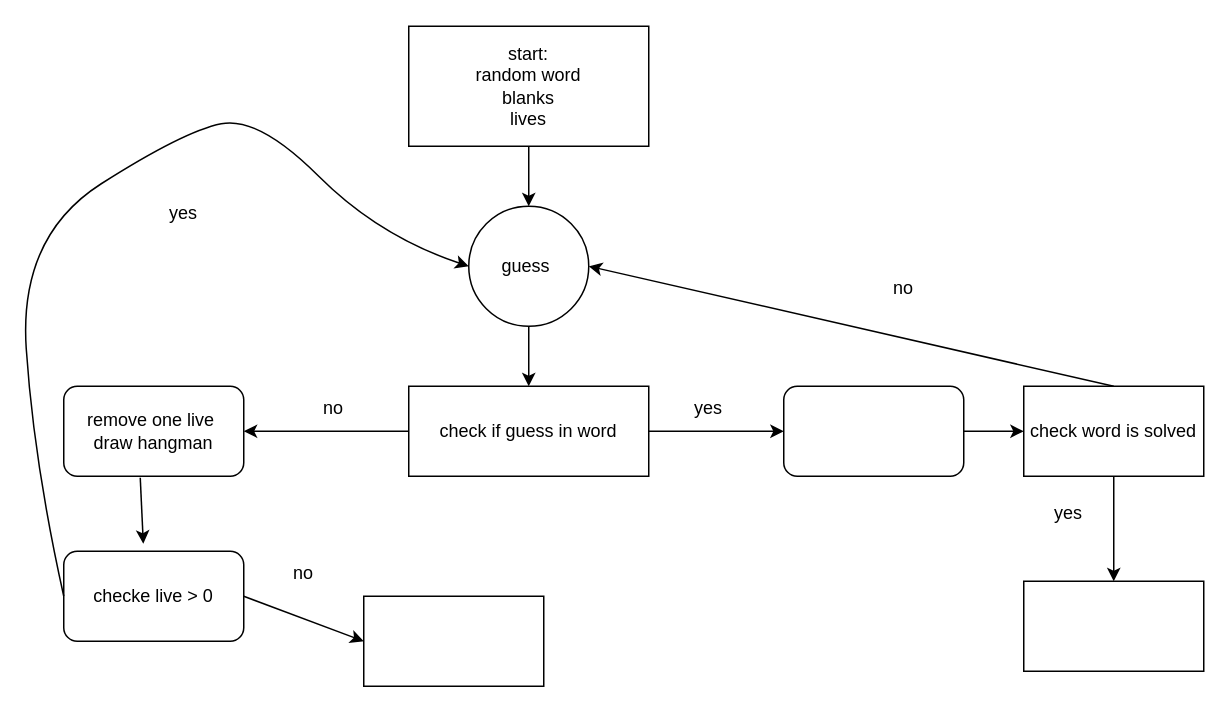
Some shapes in this 1232 by 713 pixel diagram are drawn without their labels. Here are the shapes that lost their labels. From the top down, the centre of each, then its label:
At point 873,430: "remove blanks".
At point 453,640: "loose".
At point 1113,625: "won".
